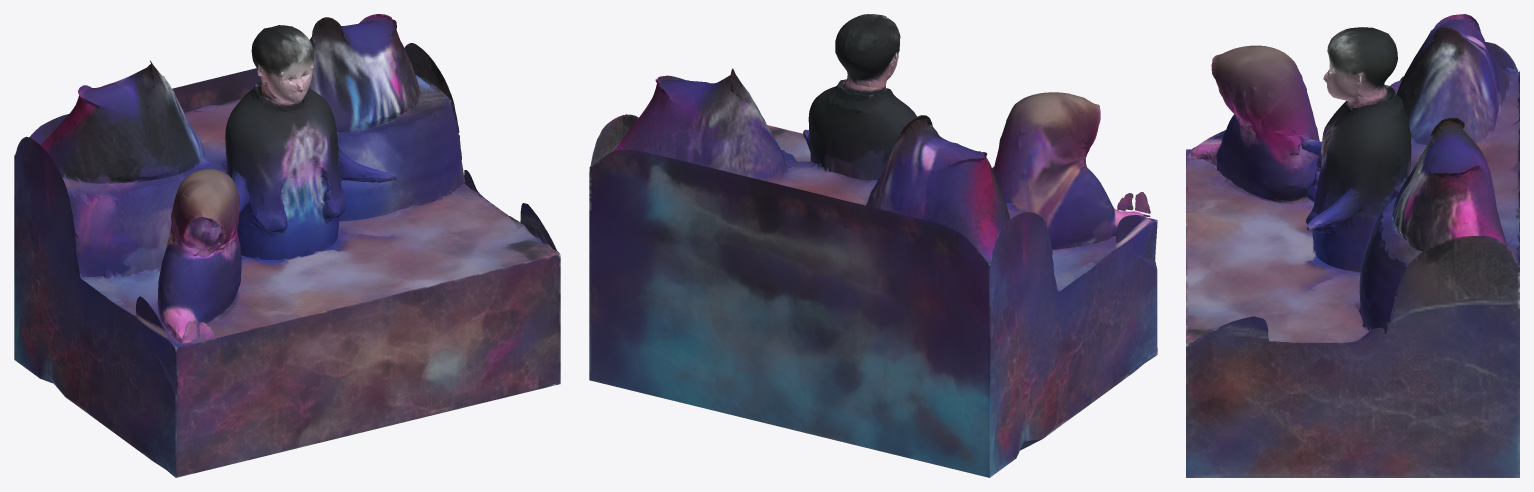
The model's file is autogate_imigrasi.glb.
The picture shows the model from 3 angles, left to right: view 1: azimuth 30°, elevation 25°; view 2: azimuth 150°, elevation 25°; view 3: azimuth 270°, elevation 25°; orthographic projection. The views are drawn at different scales.
Visible parts, largest first — view 1: Autogate_Booth; view 2: Autogate_Booth; view 3: Autogate_Booth.
Boxes of the visible parts, x1,y1,x2,y2 form: Autogate_Booth: (14, 14, 560, 477); Autogate_Booth: (589, 14, 1157, 477); Autogate_Booth: (1186, 14, 1519, 477).
Bounding box in the file's own units: 1.9 × 1.6 × 1.38.
1 material, 1 textured.
